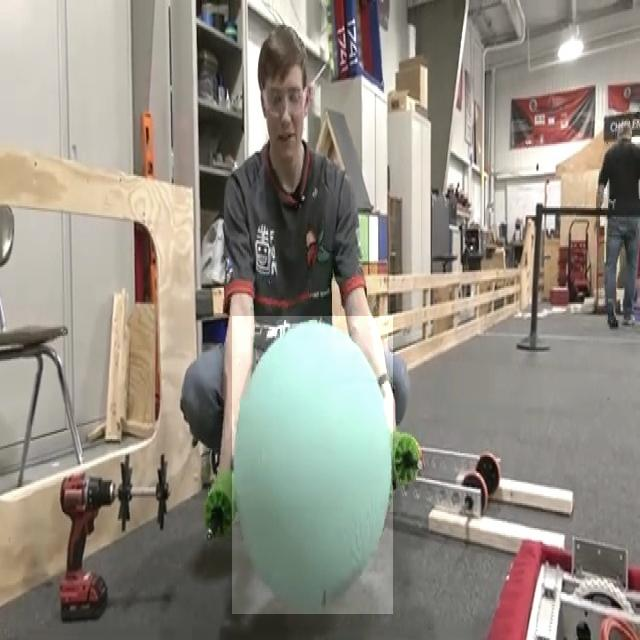Algae: (232, 316, 393, 614)
